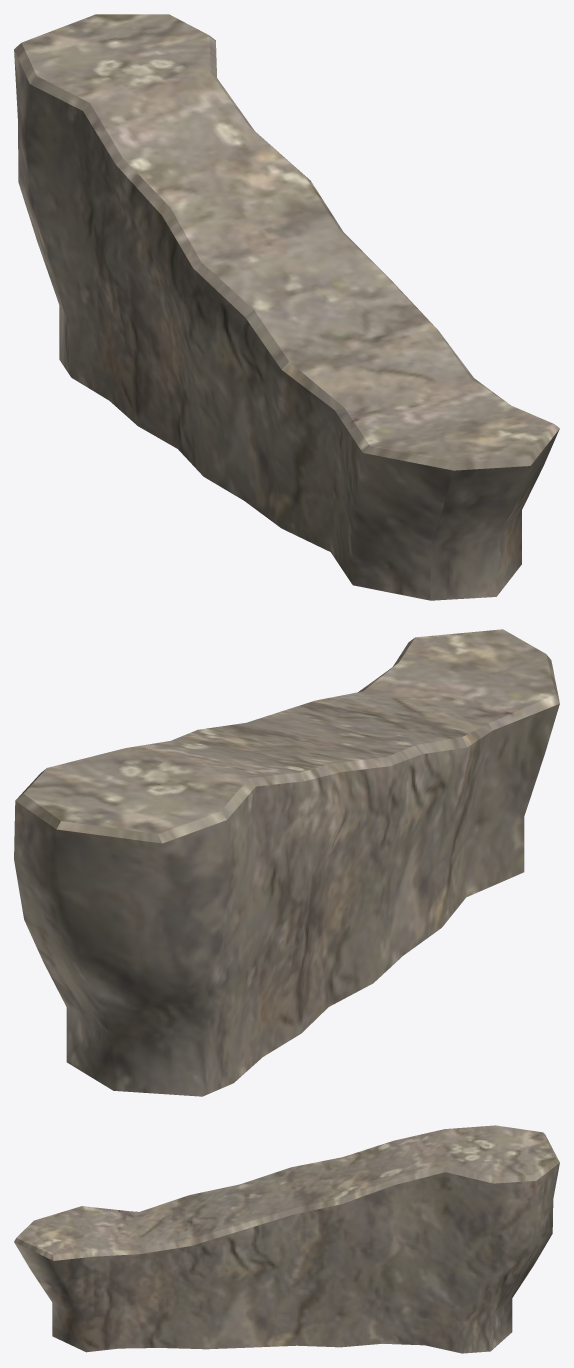
Rendered from rockPlatform2.fbx.
3 renders of one model, top to bottom at view 1: azimuth 30°, elevation 25°; view 2: azimuth 150°, elevation 25°; view 3: azimuth 270°, elevation 25°, orthographic. The views are drawn at different scales.
Parts seen in each view (by area): view 1: pPlane6; view 2: pPlane6; view 3: pPlane6.
Part boxes in pixels (box(x1,y1,x2,y2)): pPlane6: box(14, 14, 559, 600); pPlane6: box(14, 629, 559, 1096); pPlane6: box(14, 1125, 559, 1353).
Bounding box in the file's own units: 1.33 × 1.94 × 5.35.
